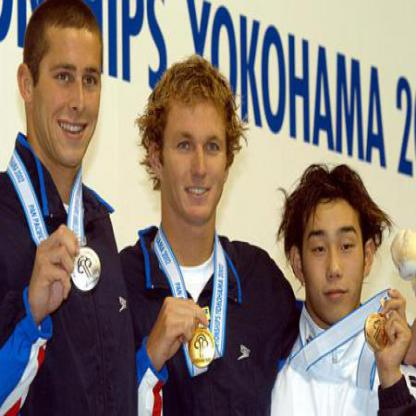face: (32, 1, 108, 170), (161, 69, 230, 223), (301, 178, 368, 325)
